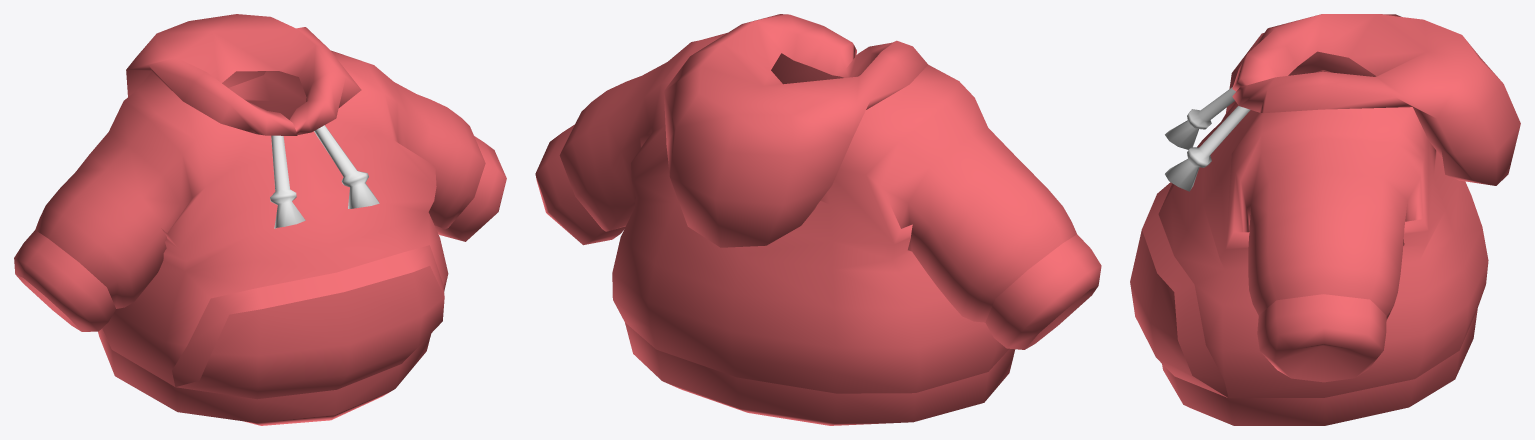
3 renders of one model, left to right at view 1: azimuth 30°, elevation 25°; view 2: azimuth 150°, elevation 25°; view 3: azimuth 270°, elevation 25°, orthographic. The views are drawn at different scales.
Visible parts, largest first — view 1: Top_64.001; view 2: Top_64.001; view 3: Top_64.001.
Part boxes in pixels (left/top/right/bottom): Top_64.001: left=14, top=14, right=506, bottom=425; Top_64.001: left=535, top=14, right=1101, bottom=425; Top_64.001: left=1130, top=14, right=1520, bottom=425.
Size of the model in its own units: 91.47 by 57.22 by 60.32.
